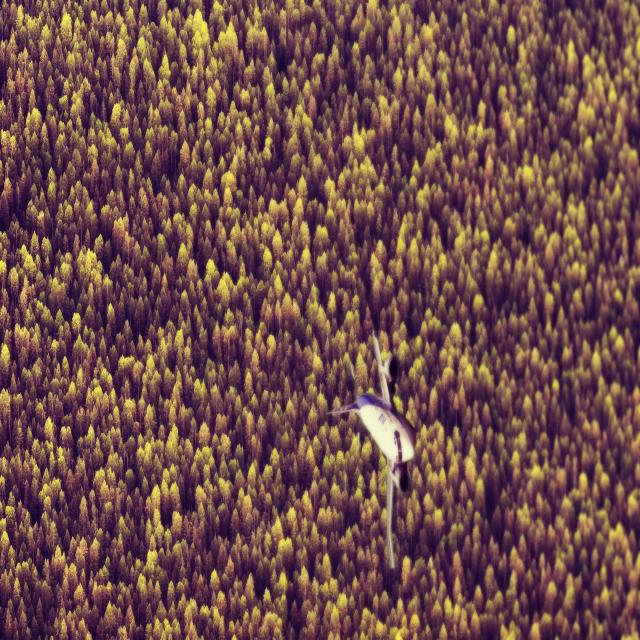airplane: (326, 330, 416, 570)
